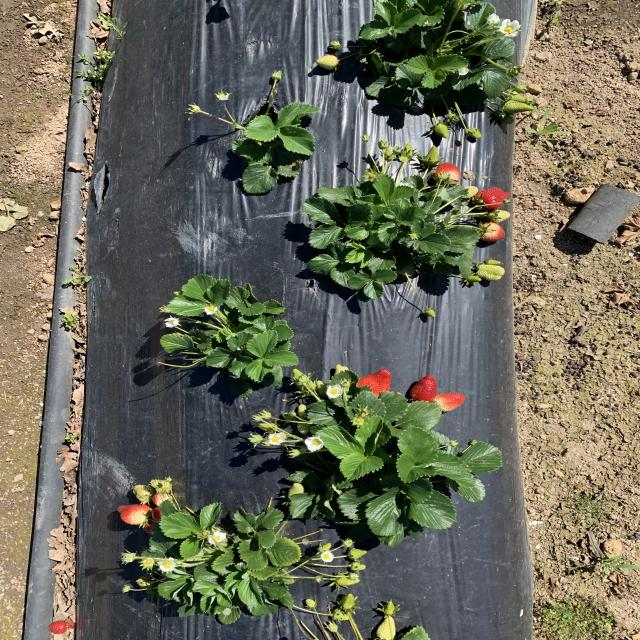unripe: (354, 368, 392, 397), (471, 187, 512, 210), (408, 374, 438, 405), (432, 160, 462, 188), (430, 393, 467, 412), (117, 505, 149, 526), (477, 223, 505, 242), (46, 620, 71, 634), (151, 507, 170, 520), (144, 524, 162, 534)
